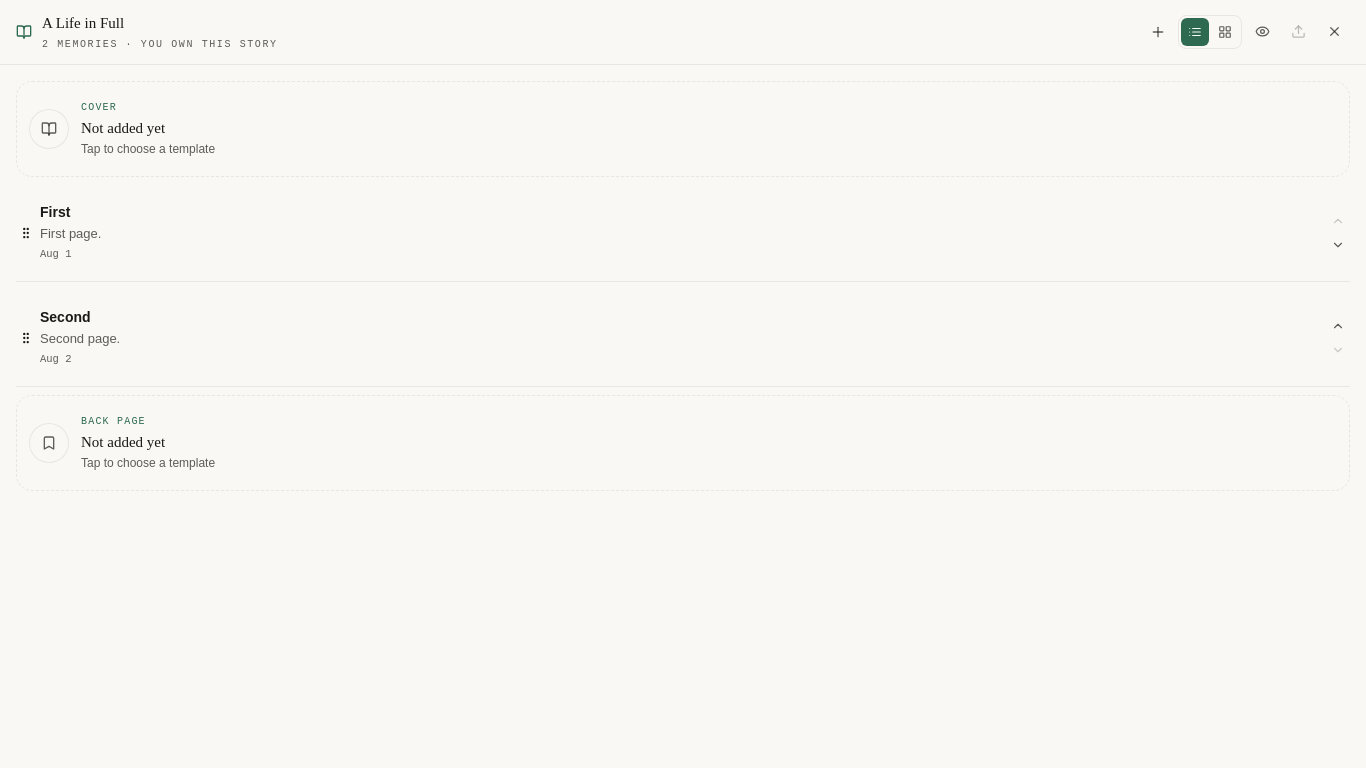
Test: StoryView — Preview entry point (Phase 5) › closing the reader and reopening it returns to page 1
The image size is (1366, 768).
Expected: the text "First" is shown, [40, 204, 70, 220]
What coordinates should you click on to do the following:
click the button named "Preview this story"
I would click on:
 (1262, 32)
Its box is [1246, 16, 1278, 48].
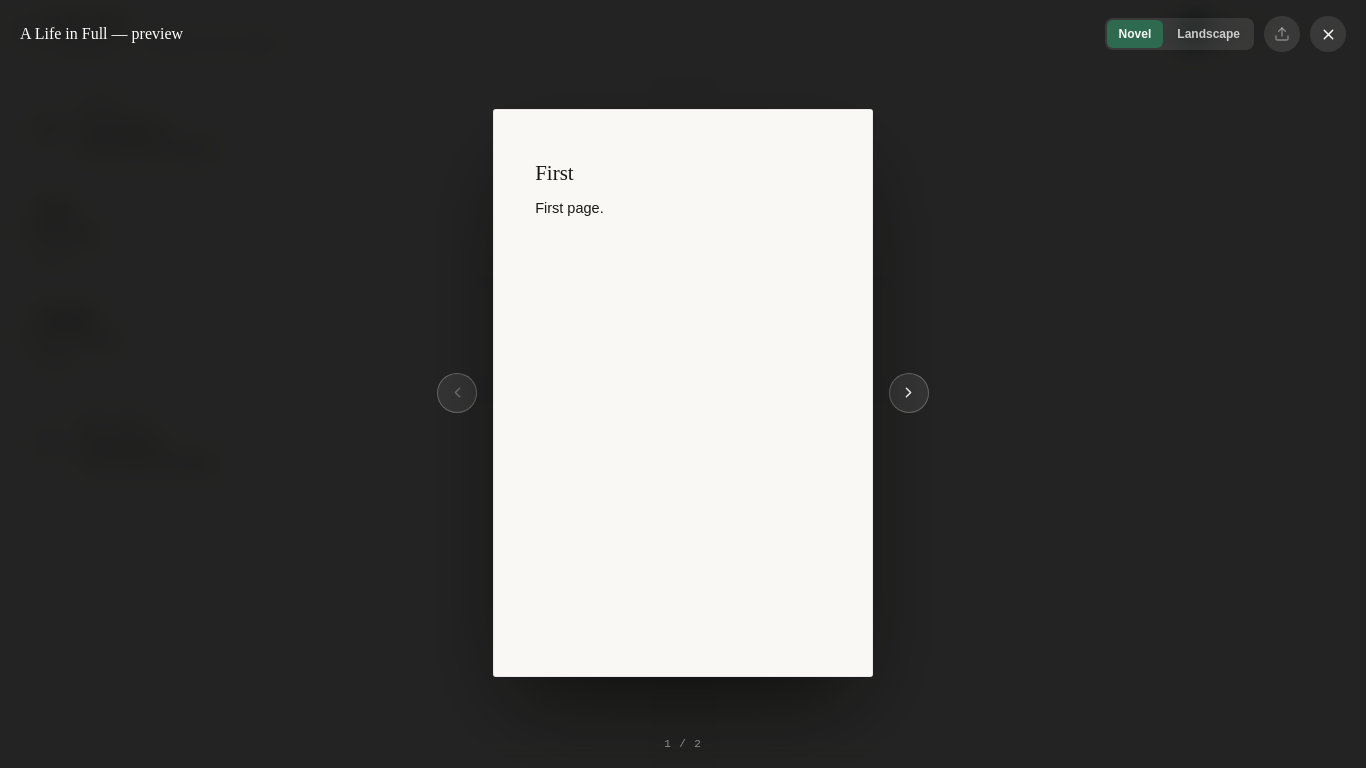
What coordinates should you click on to do the following:
click the button named "Next page"
I would click on:
 (908, 393)
Its box is [888, 373, 928, 413].
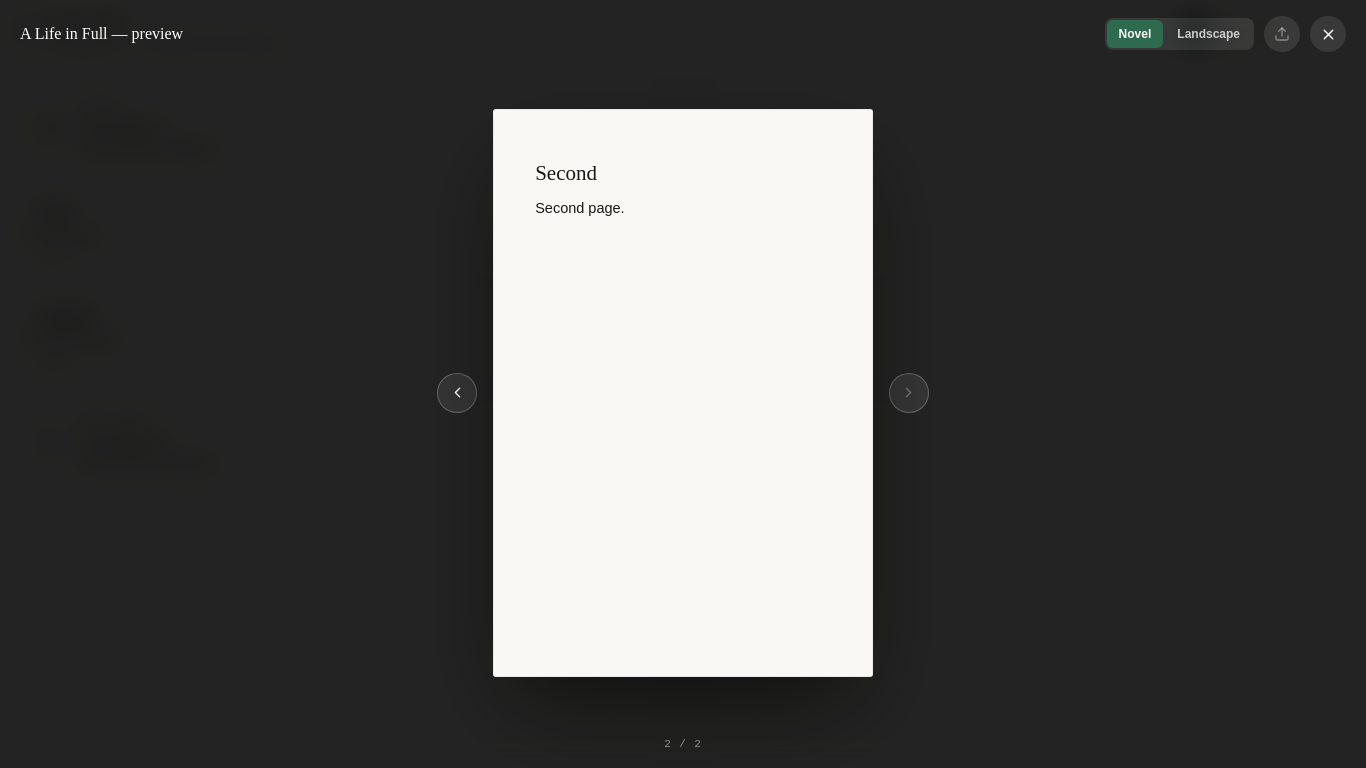
Result: the text "Second page." is shown at [535, 200, 625, 216]
What coordinates should you click on to do the following:
click the button named "Close preview"
I would click on:
 (1328, 34)
Its box is [1310, 16, 1346, 52].
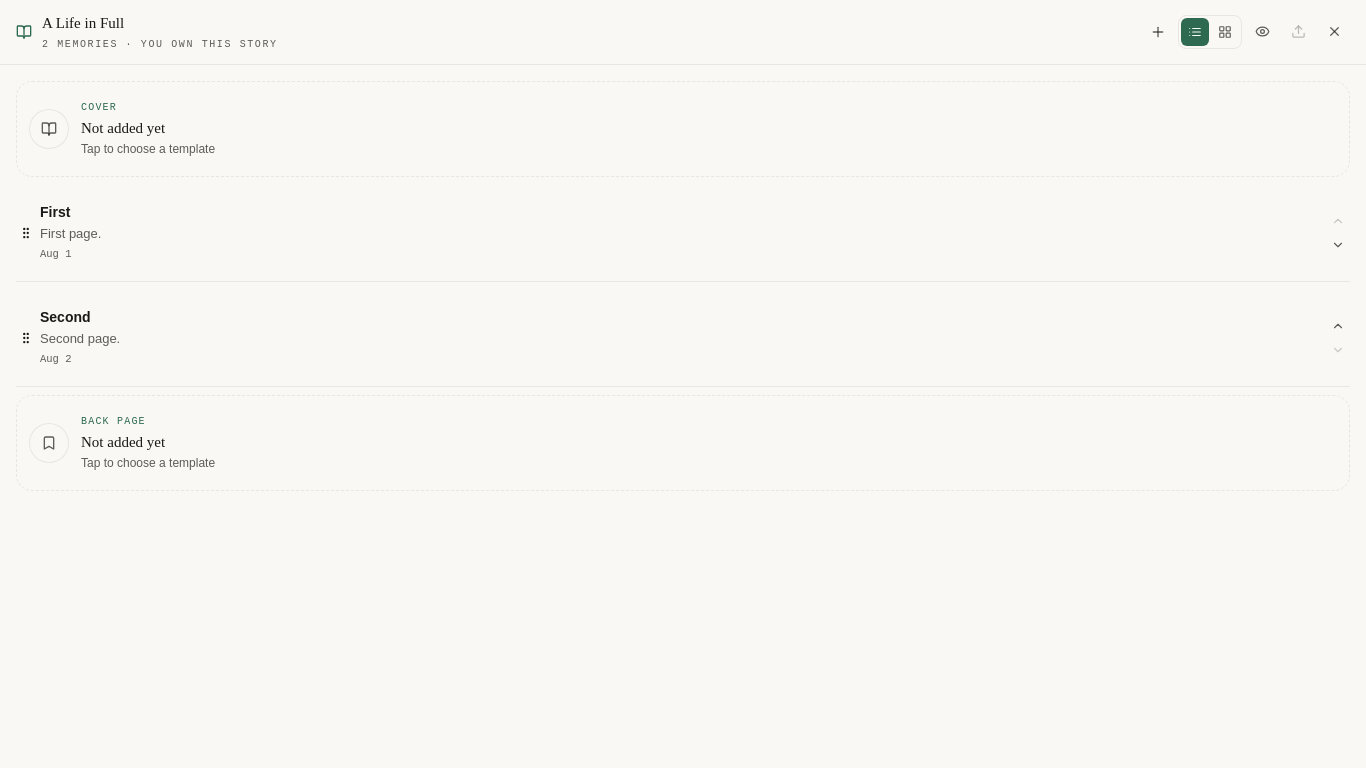
Result: the text "preview" is gone
What coordinates should you click on to do the following:
click the button named "Preview this story"
I would click on:
 (1262, 32)
Its box is [1246, 16, 1278, 48].
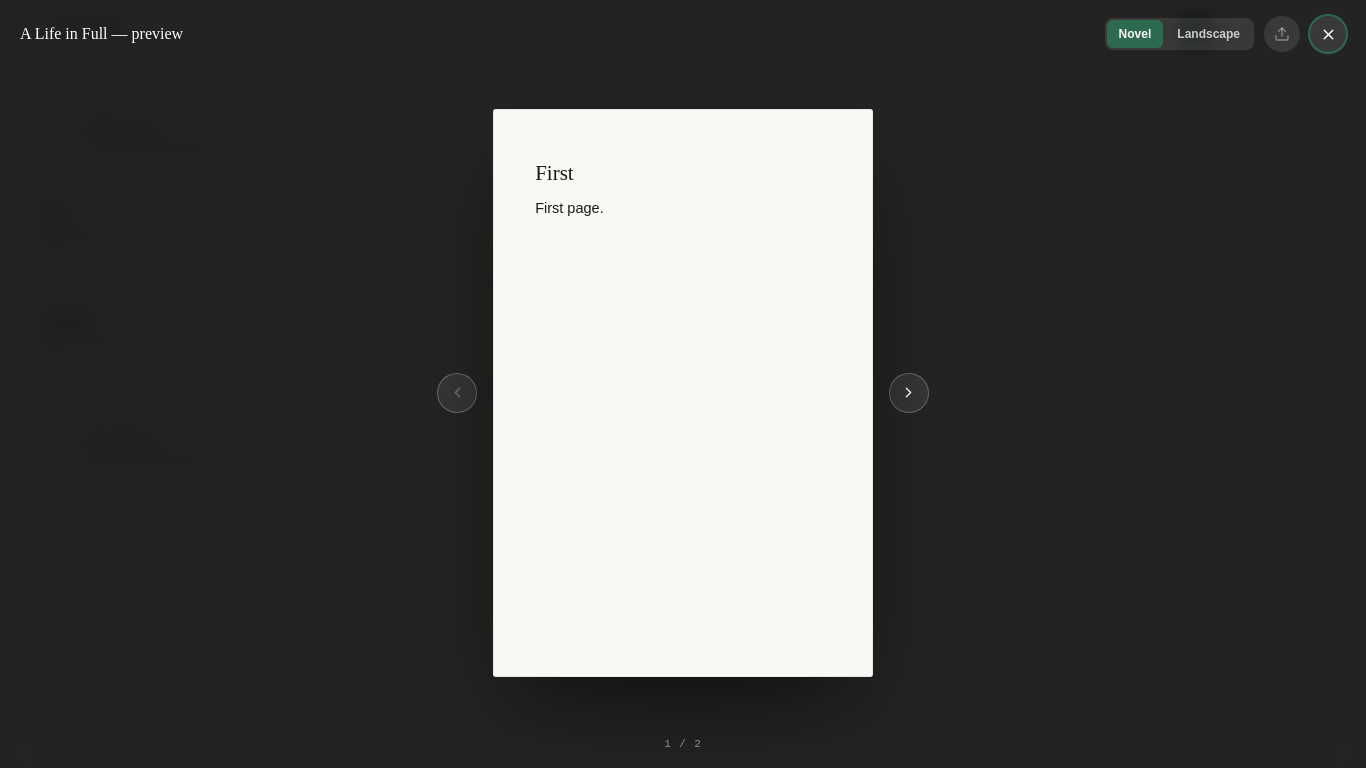
Result: the text "First page." is shown at [535, 200, 604, 216]
